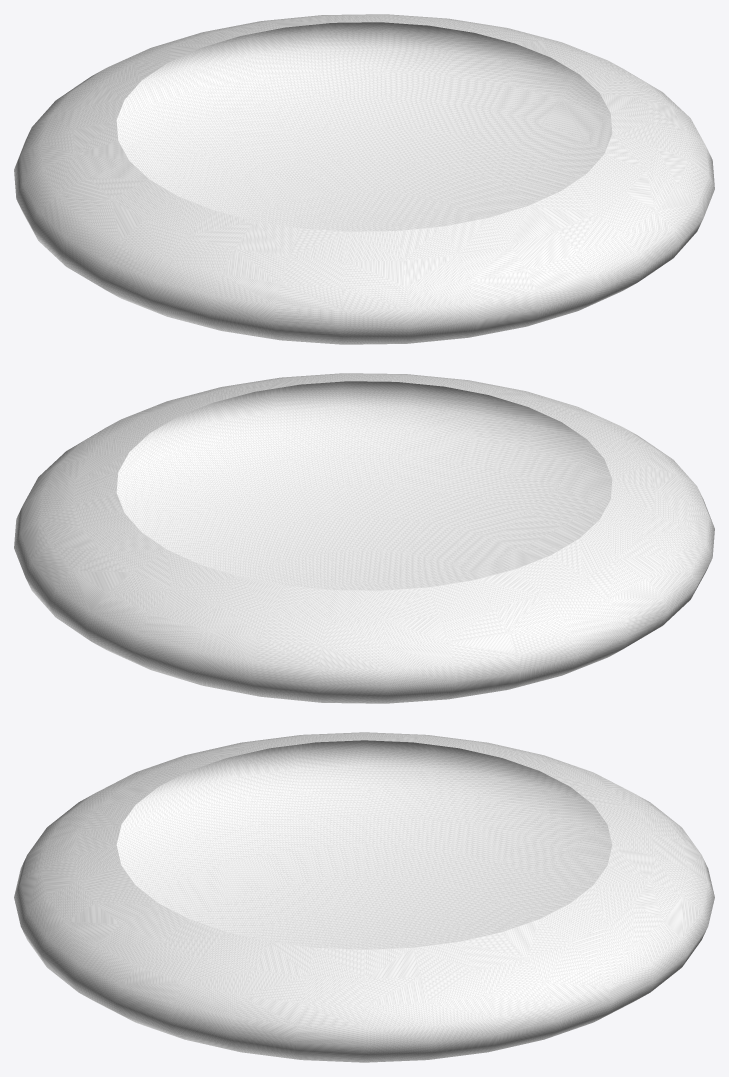
3 views of the same model, one above another, from view 1: azimuth 30°, elevation 25°; view 2: azimuth 150°, elevation 25°; view 3: azimuth 270°, elevation 25° (orthographic).
Visible parts, largest first — view 1: Sphere; view 2: Sphere; view 3: Sphere.
Part boxes in pixels (left/top/right/bottom): Sphere: left=14, top=14, right=714, bottom=344; Sphere: left=14, top=373, right=714, bottom=703; Sphere: left=14, top=732, right=714, bottom=1062.
Size of the model in its own units: 9000 by 1792 by 9000.
1 material, 1 textured.
